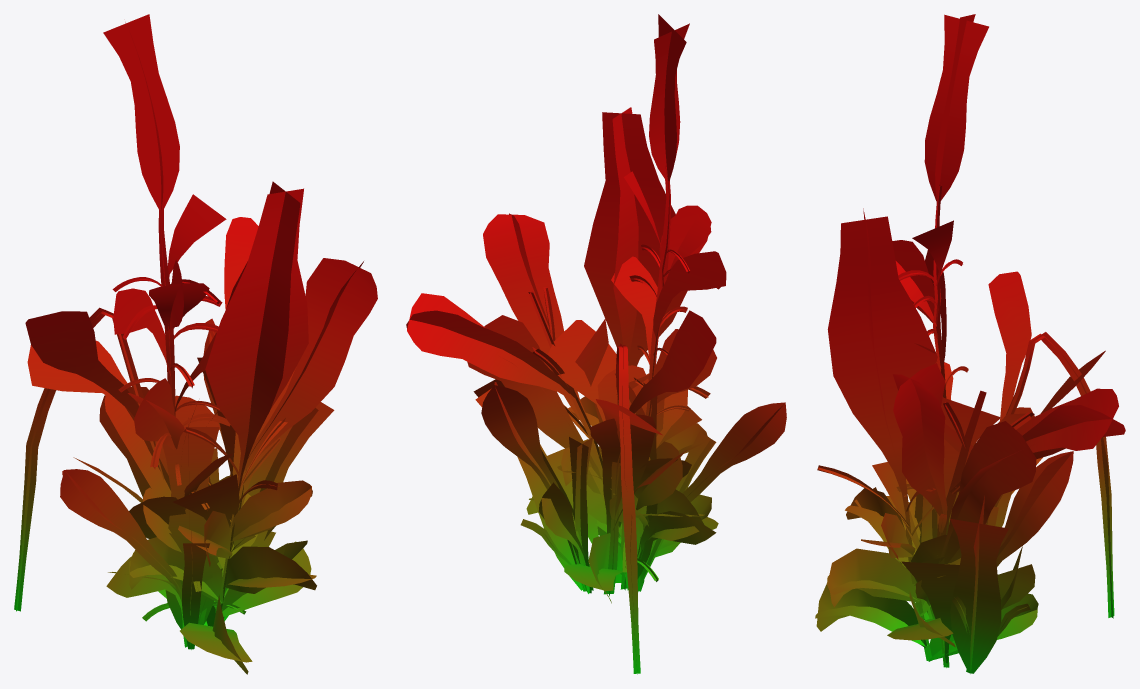
File: Green Herb_LOD1_Var2_tbbpaier.fbx
The picture shows the model from 3 angles, left to right: view 1: azimuth 30°, elevation 25°; view 2: azimuth 150°, elevation 25°; view 3: azimuth 270°, elevation 25°; orthographic projection. The views are drawn at different scales.
Visible parts, largest first — view 1: _27e8_Var2_LOD1; view 2: _27e8_Var2_LOD1; view 3: _27e8_Var2_LOD1.
Boxes of the visible parts, left/top/right/bottom form: _27e8_Var2_LOD1: left=14, top=14, right=377, bottom=674; _27e8_Var2_LOD1: left=406, top=14, right=786, bottom=674; _27e8_Var2_LOD1: left=815, top=14, right=1125, bottom=673.
Size of the model in its own units: 13.01 by 25.27 by 11.37.
